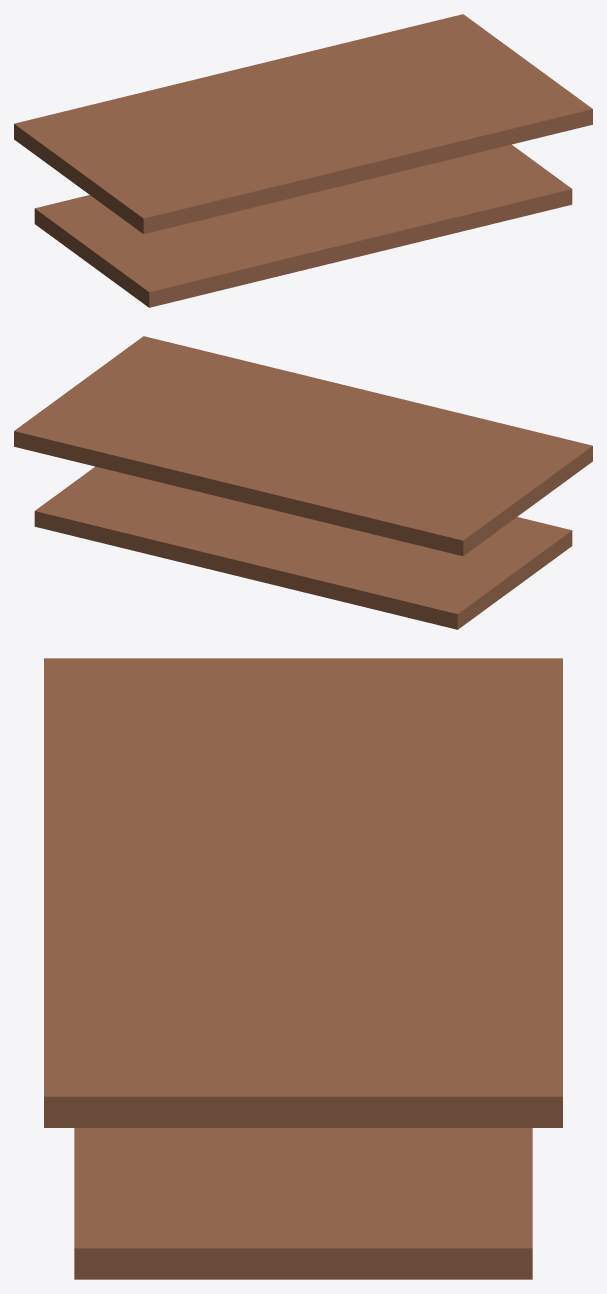
3 views of the same model, one above another, from view 1: azimuth 30°, elevation 25°; view 2: azimuth 150°, elevation 25°; view 3: azimuth 270°, elevation 25° (orthographic). The views are drawn at different scales.
Visible parts, largest first — view 1: Tabletop, Shelf; view 2: Tabletop, Shelf; view 3: Tabletop, Shelf.
Boxes of the visible parts, x1,y1,x2,y2 form: Tabletop: (14,14,592,234); Shelf: (34,144,572,307); Tabletop: (14,336,592,556); Shelf: (34,466,572,629); Tabletop: (44,658,562,1127); Shelf: (74,1128,532,1279).
Size of what is drawn, in the model's own units: 1.2 by 0.25 by 0.6.
